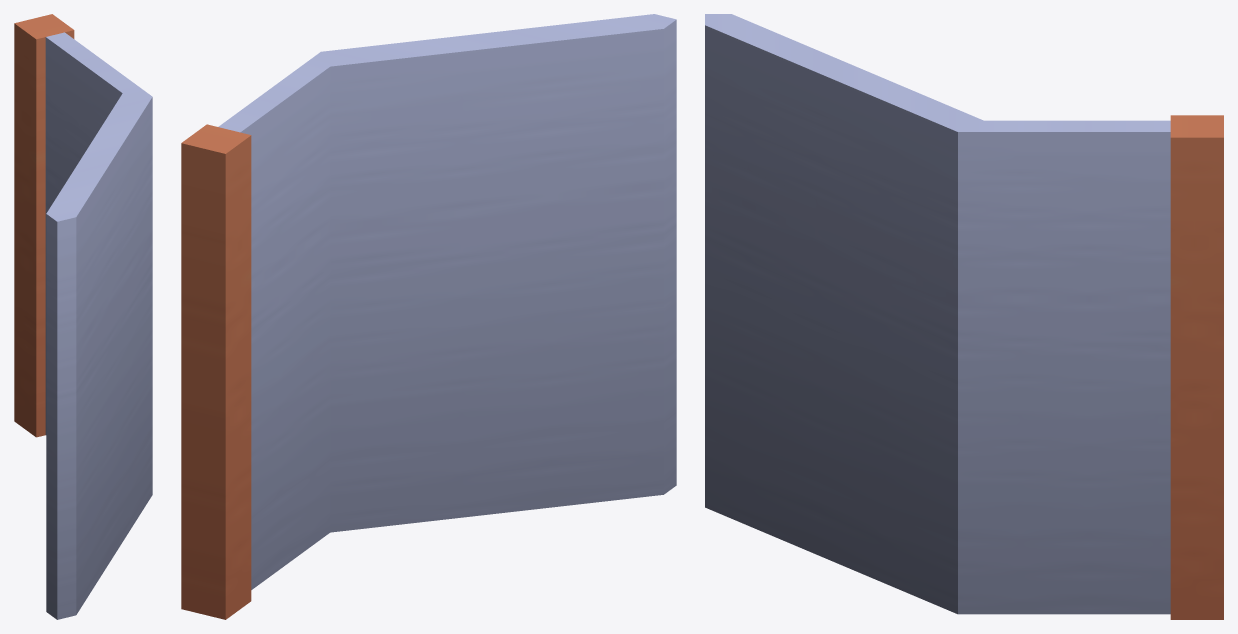
The model's file is wallCornerDiagonalHalf.fbx.
3 renders of one model, left to right at view 1: azimuth 30°, elevation 25°; view 2: azimuth 150°, elevation 25°; view 3: azimuth 270°, elevation 25°, orthographic. The views are drawn at different scales.
Parts seen in each view (by area): view 1: wallCornerDiagonalHalf; view 2: wallCornerDiagonalHalf; view 3: wallCornerDiagonalHalf.
Boxes of the visible parts, left/top/right/bottom form: wallCornerDiagonalHalf: left=14, top=14, right=152, bottom=619; wallCornerDiagonalHalf: left=181, top=14, right=676, bottom=619; wallCornerDiagonalHalf: left=705, top=14, right=1223, bottom=619.
Size of the model in its own units: 0.55 by 0.975 by 1.
